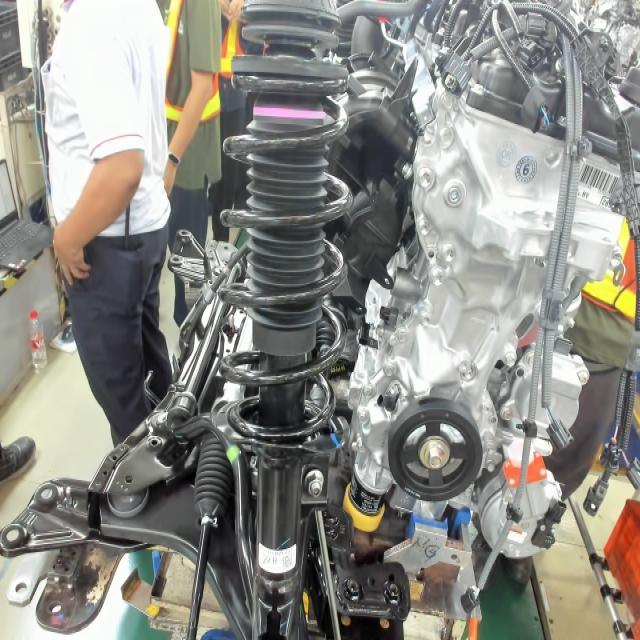Absorber RH-22: (261, 551, 295, 574)
Bar Stabilizer-HJ: (223, 444, 243, 466)
Bumper-PK: (250, 101, 326, 129)
